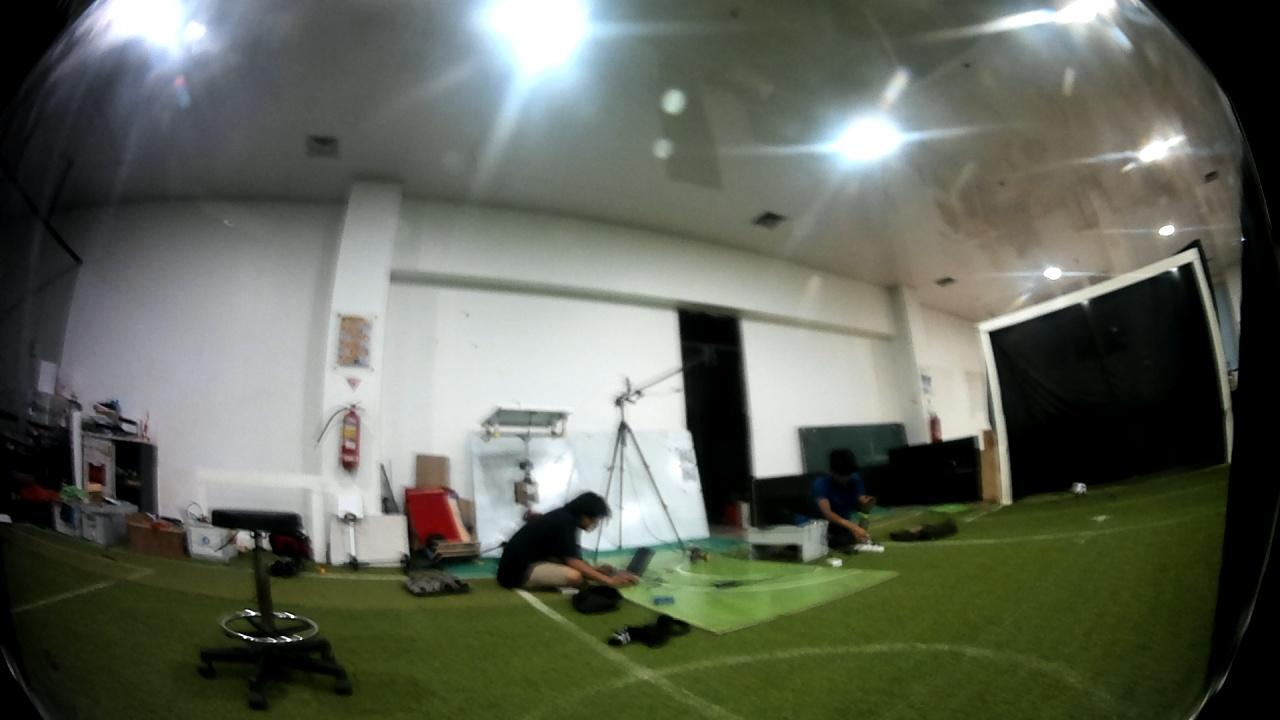ball: (1071, 478, 1090, 497)
